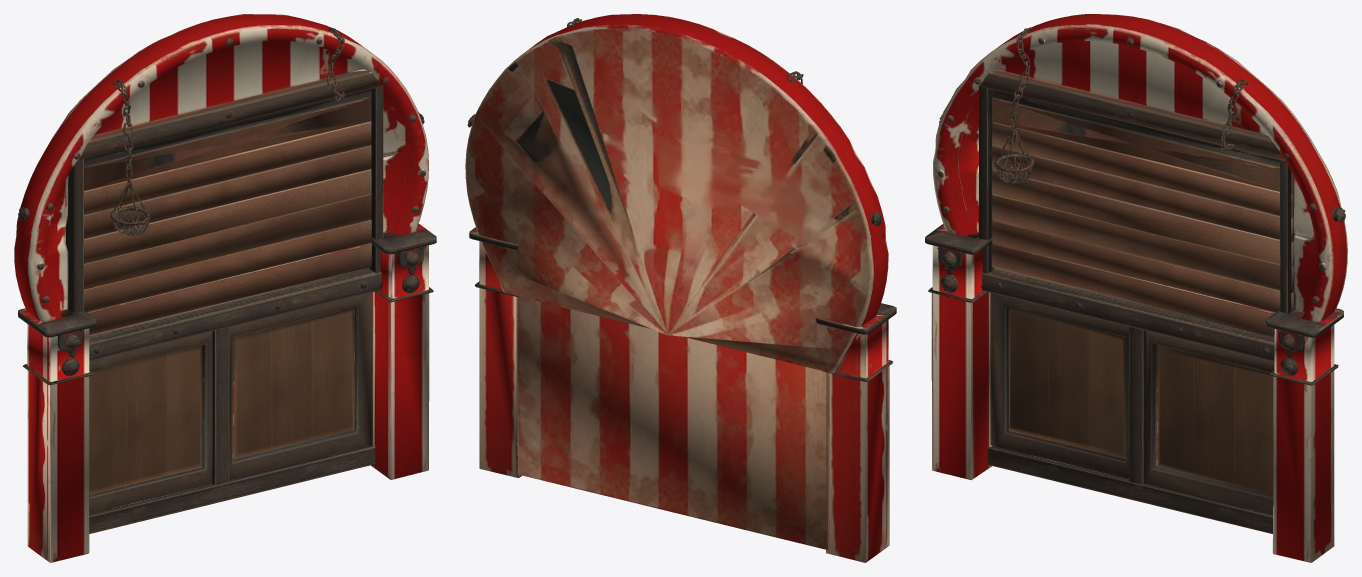
Rendered from hoop.glb.
3 views of the same model, side by side, from view 1: azimuth 30°, elevation 25°; view 2: azimuth 150°, elevation 25°; view 3: azimuth 330°, elevation 25° (orthographic).
Visible parts, largest first — view 1: midway-fit; view 2: midway-fit; view 3: midway-fit.
Boxes of the visible parts, x1,y1,x2,y2 form: midway-fit: (14, 14, 436, 562); midway-fit: (465, 14, 896, 562); midway-fit: (925, 14, 1347, 562).
Size of the model in its own units: 0.8806 by 1 by 0.1434.
1 material, 1 textured.
